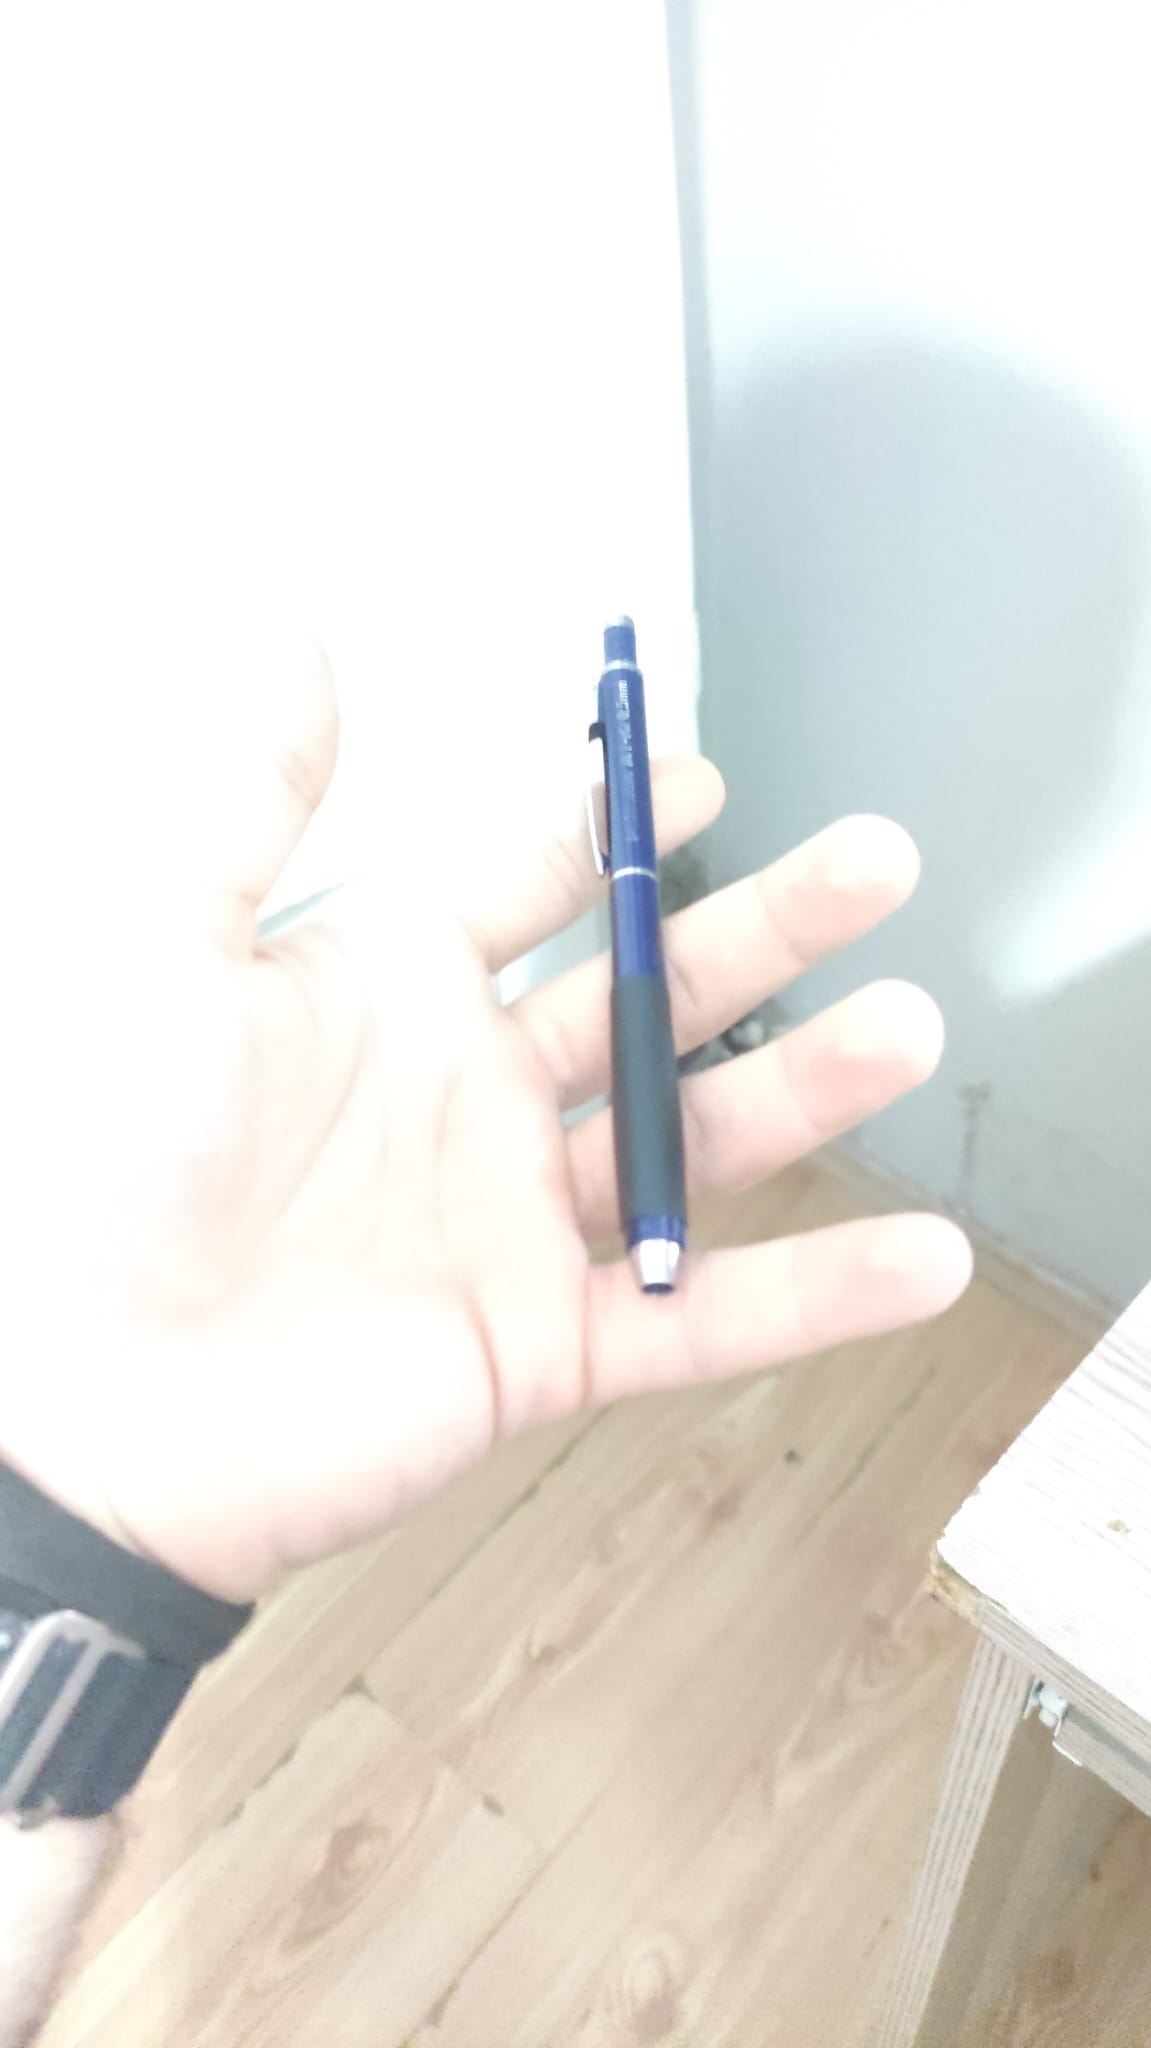kalem: (591, 622, 687, 1295)
